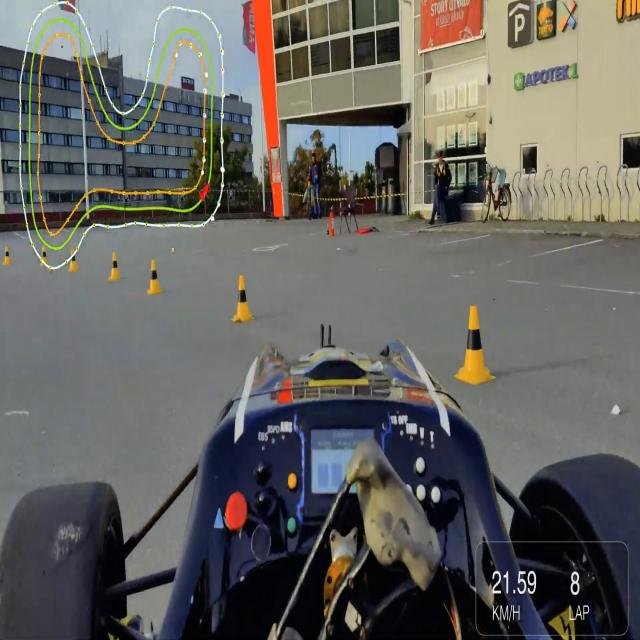yellow_cone: (454, 306, 496, 385), (231, 275, 253, 323), (146, 259, 162, 294), (109, 252, 121, 282), (68, 248, 78, 273), (40, 245, 49, 268), (4, 246, 12, 266)
